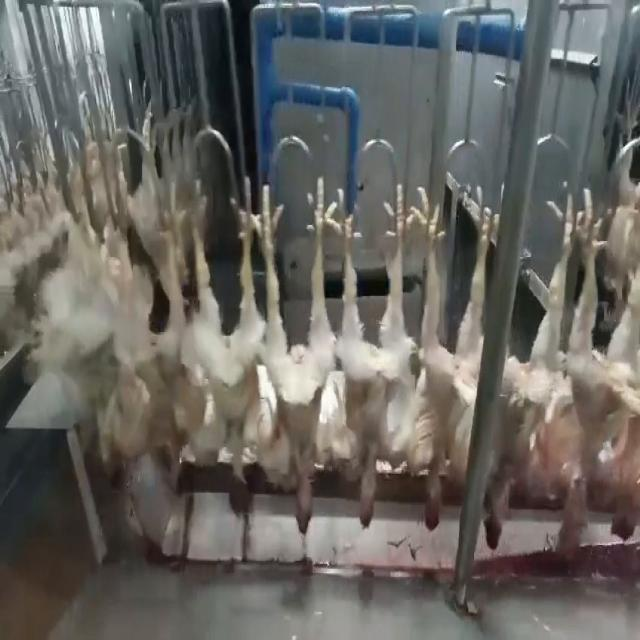chicken: (506, 188, 598, 566), (259, 177, 333, 538), (411, 191, 486, 540), (336, 180, 409, 532), (181, 175, 255, 510), (102, 183, 172, 468), (589, 177, 639, 542)
